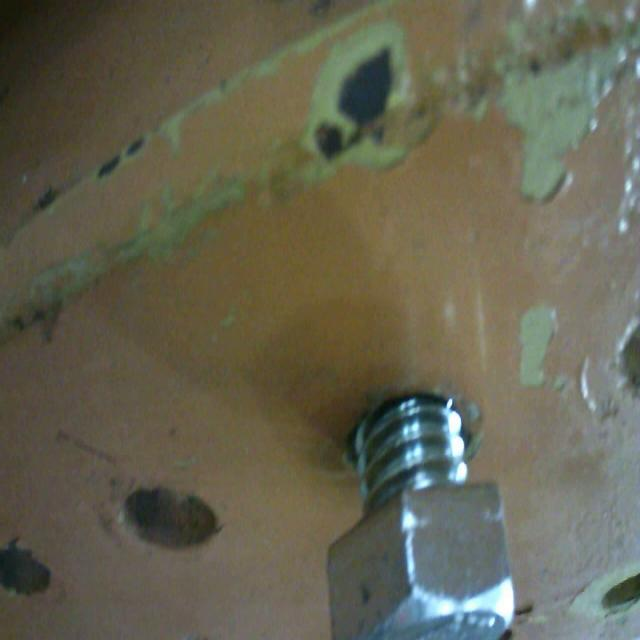Loose bolt: (327, 392, 518, 640)
Missing bolt: (124, 486, 222, 557), (1, 539, 51, 597), (604, 572, 640, 619)
Regular bolt: (332, 388, 516, 635)
